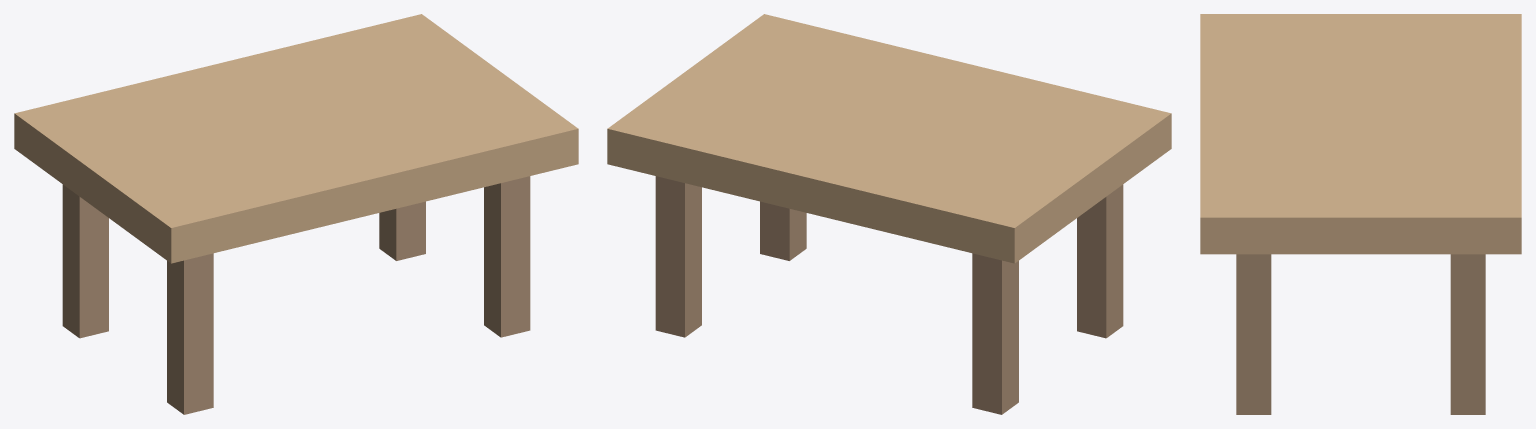
File: table.glb
3 views of the same model, side by side, from view 1: azimuth 30°, elevation 25°; view 2: azimuth 150°, elevation 25°; view 3: azimuth 270°, elevation 25° (orthographic). The views are drawn at different scales.
Visible parts, largest first — view 1: top, leg (×4); view 2: top, leg (×4); view 3: top, leg (×2).
Part boxes in pixels (x1,y1,x2,y2): top: (14, 14, 578, 263); leg (×4): (62, 176, 530, 414); top: (607, 14, 1171, 263); leg (×4): (655, 176, 1123, 414); top: (1200, 14, 1521, 254); leg (×2): (1236, 254, 1485, 414).
Bounding box in the file's own units: 1.8 × 0.875 × 1.2.
